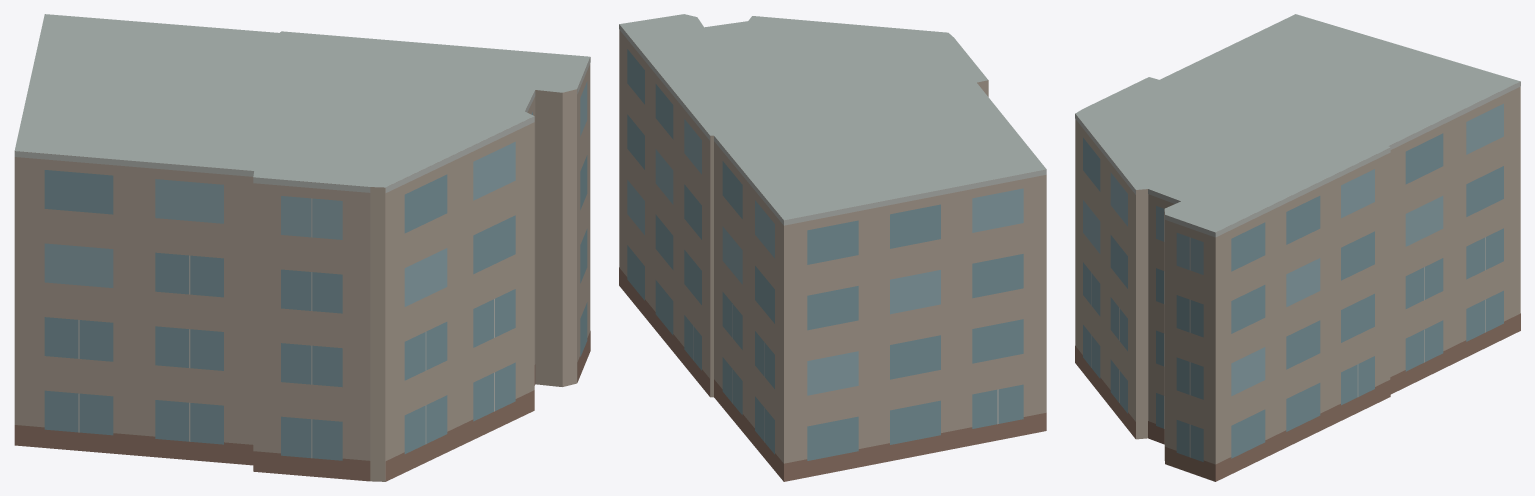
The model's file is survey-upis-32777075.glb.
3 views of the same model, side by side, from view 1: azimuth 30°, elevation 25°; view 2: azimuth 150°, elevation 25°; view 3: azimuth 270°, elevation 25° (orthographic). The views are drawn at different scales.
Visible parts, largest first — view 1: survey-upis-32777075.tmp; view 2: survey-upis-32777075.tmp; view 3: survey-upis-32777075.tmp.
Boxes of the visible parts, box(x1,y1,x2,y2) form: survey-upis-32777075.tmp: box(14, 14, 590, 481); survey-upis-32777075.tmp: box(619, 14, 1046, 481); survey-upis-32777075.tmp: box(1075, 14, 1520, 481).
Size of the model in its own units: 22.74 by 12.1 by 19.6.
